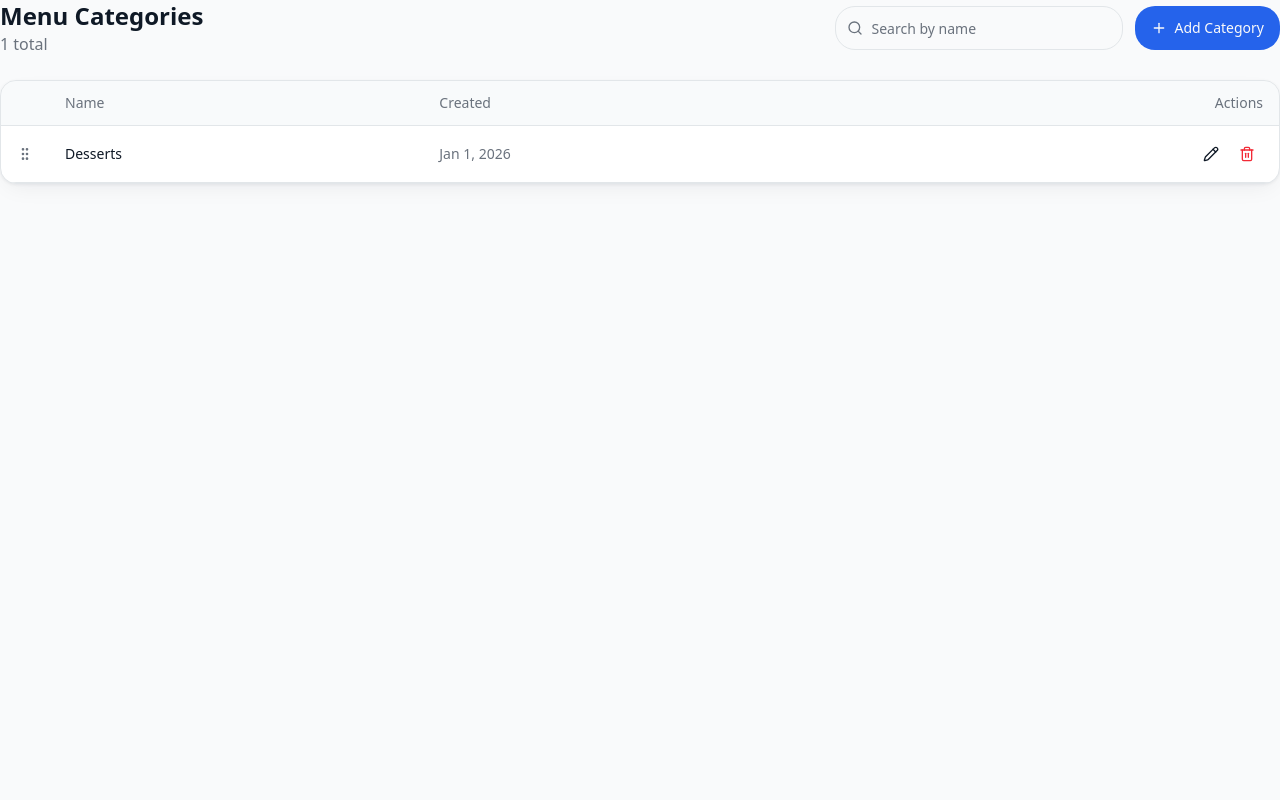
AdminCategoriesPage › creates a category from the dialog
Expected: the text "Desserts" is shown, [49,126,423,182]
Step 1. Click the button "Add Category" → [1207, 28], box [1134,6,1279,50]
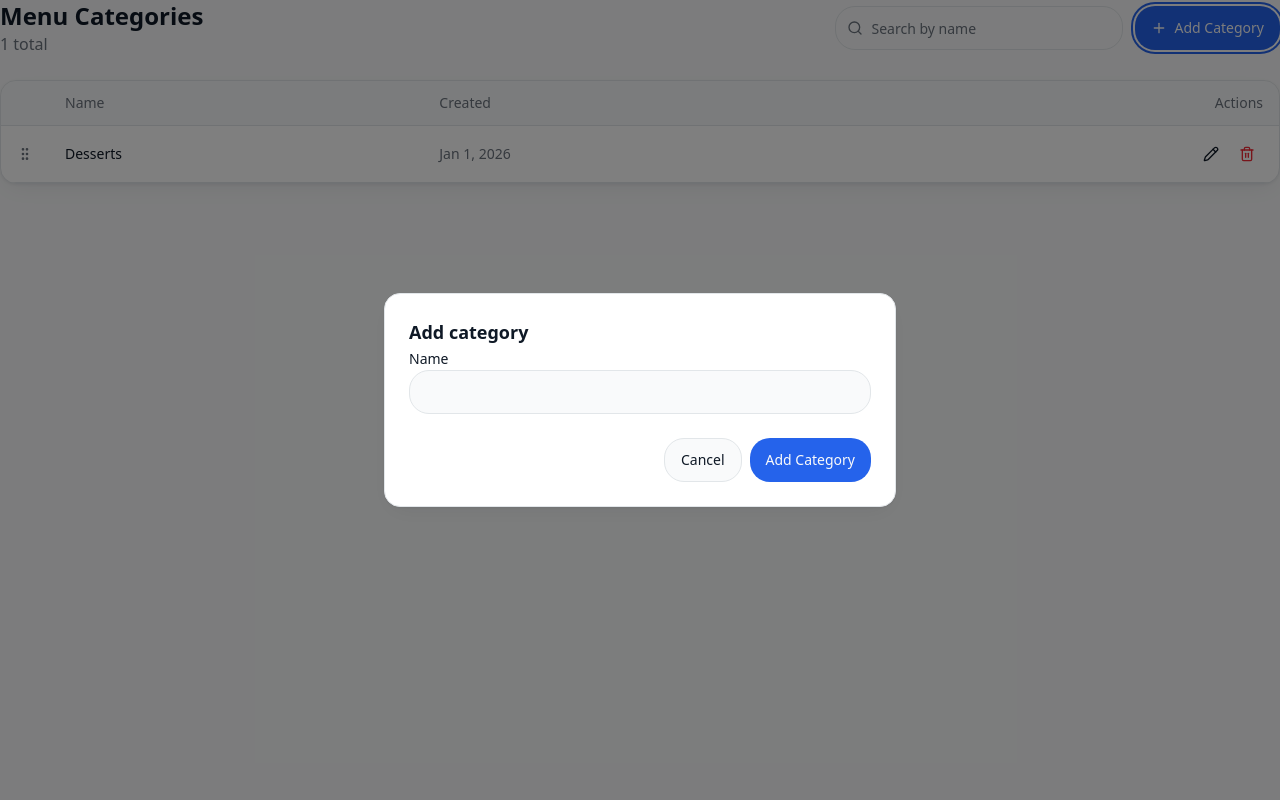
Expected: the dialog is shown, [384,293,896,507]
Step 2. Type "Appetizers" into the field labelled "Name" → [640, 392], box [409,370,871,414]
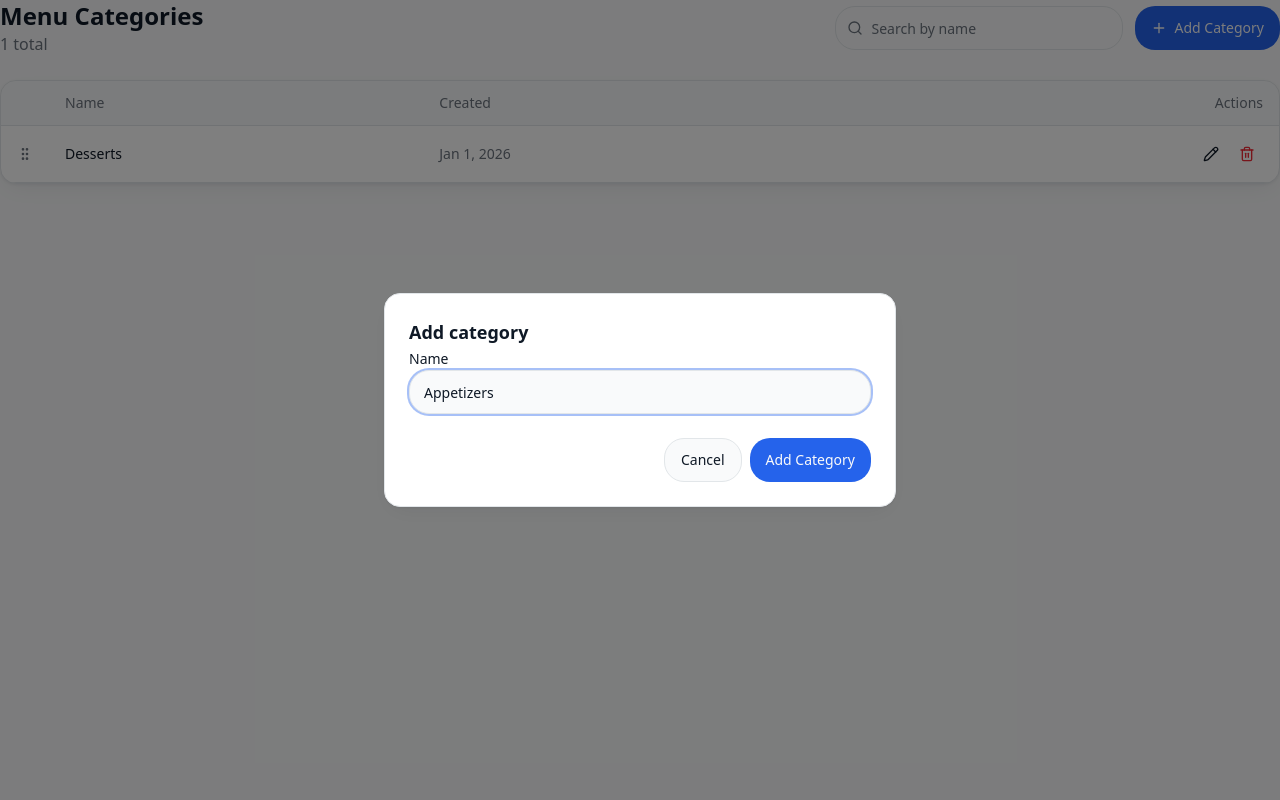
Step 3. Click the button "Add Category" → [810, 460], box [750,438,871,482]
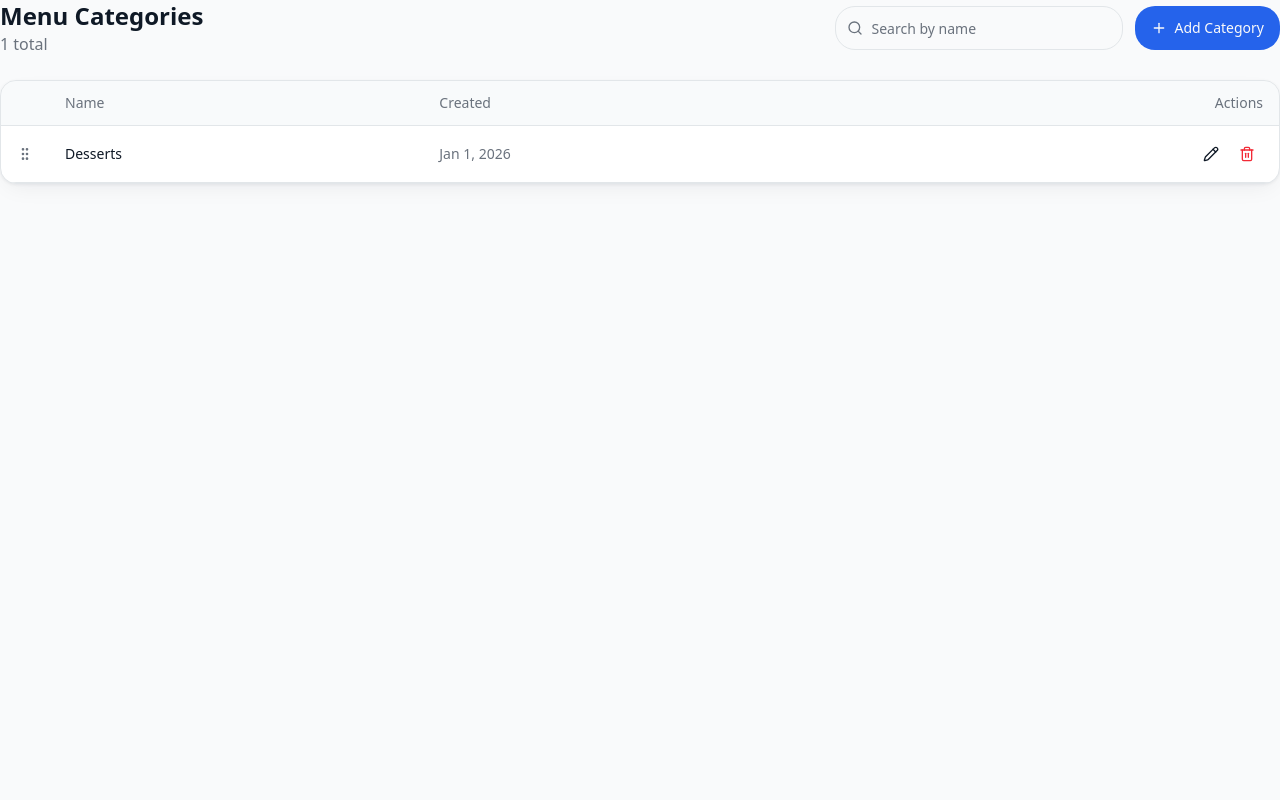
Expected: the dialog is gone
